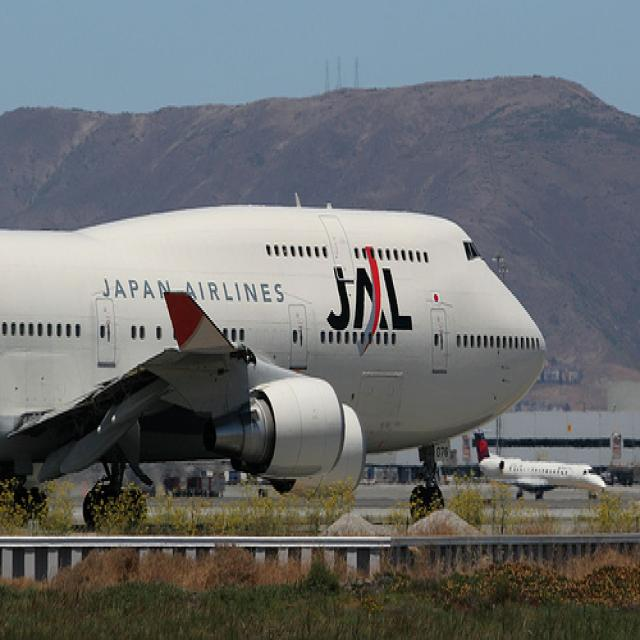aeroplane: (1, 196, 544, 526), (471, 426, 609, 502)
